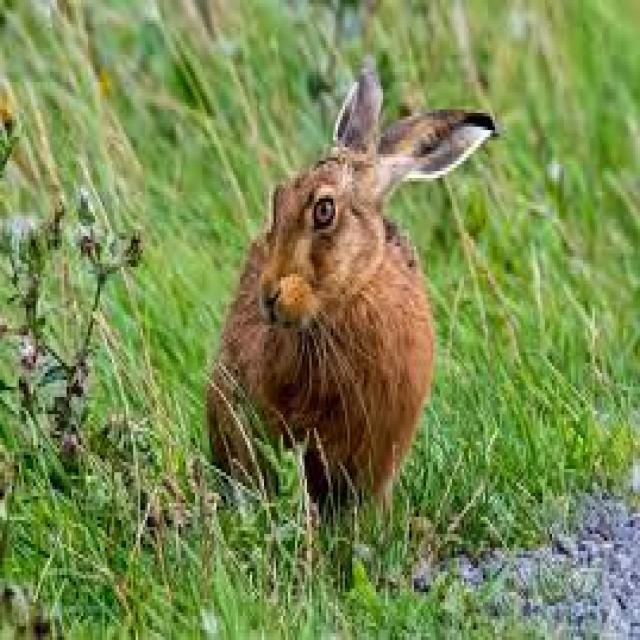hare: (209, 62, 497, 507)
